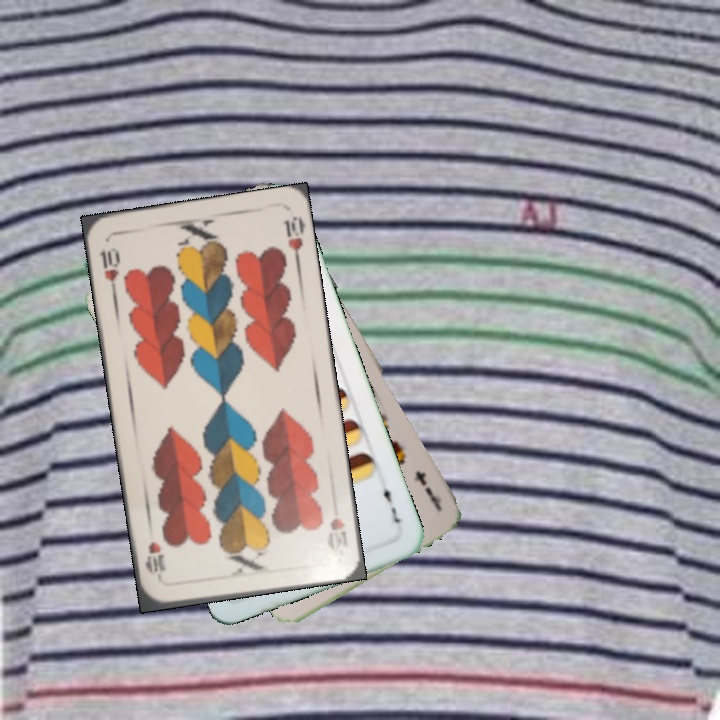E7: (412, 466, 444, 510), (379, 477, 403, 526)
H10: (95, 243, 122, 297), (324, 514, 350, 555)
